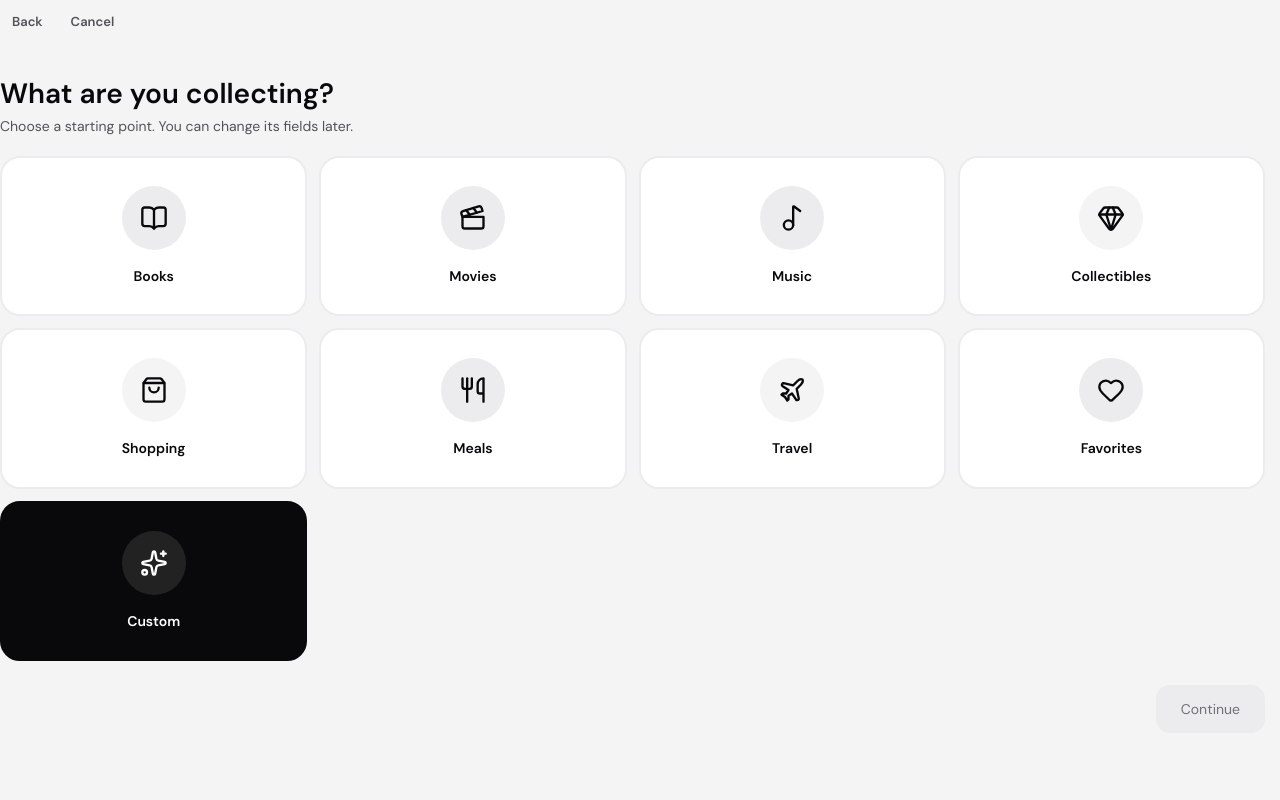
Test: Collection wizard › confirms cancel only after the wizard becomes dirty
Click the button with aria-label "Books preset". click: (154, 236)
box: [0,156,307,316]
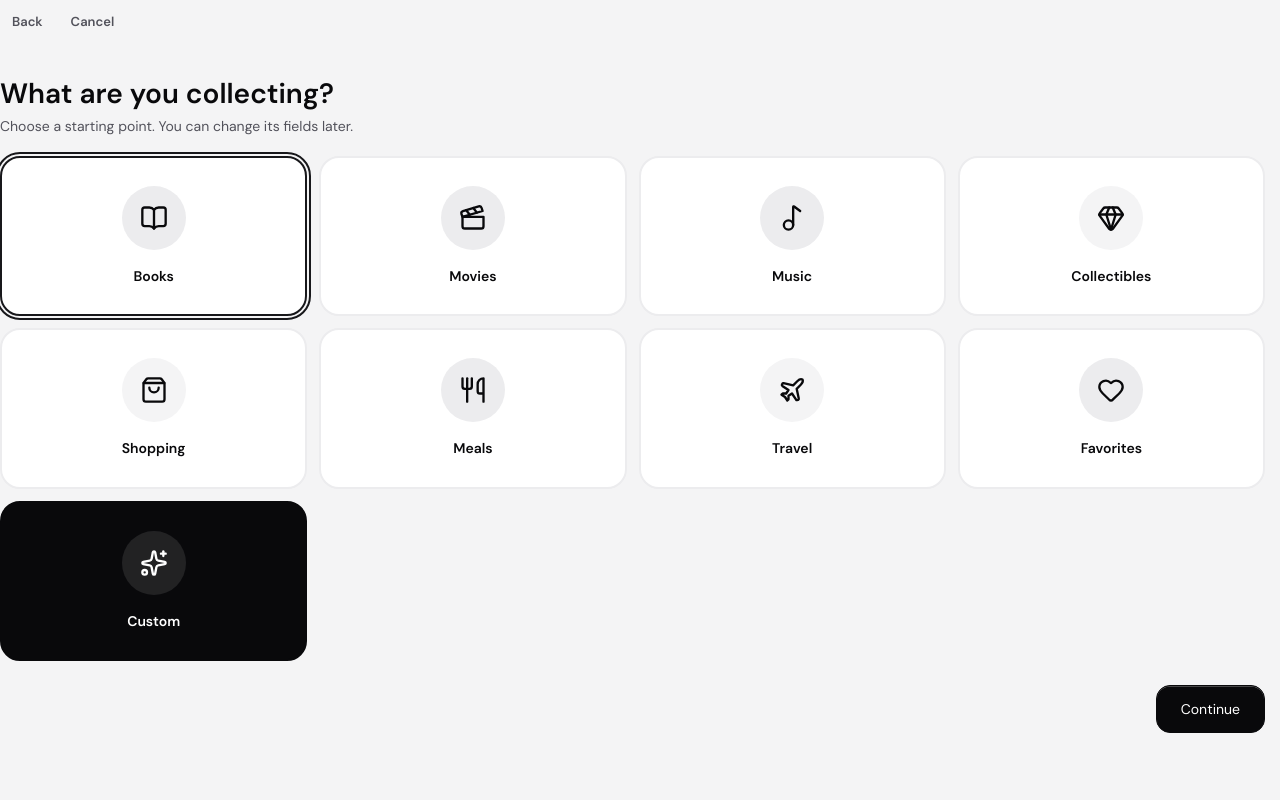
Click the button "Cancel". click: (92, 22)
box: [59,0,126,44]
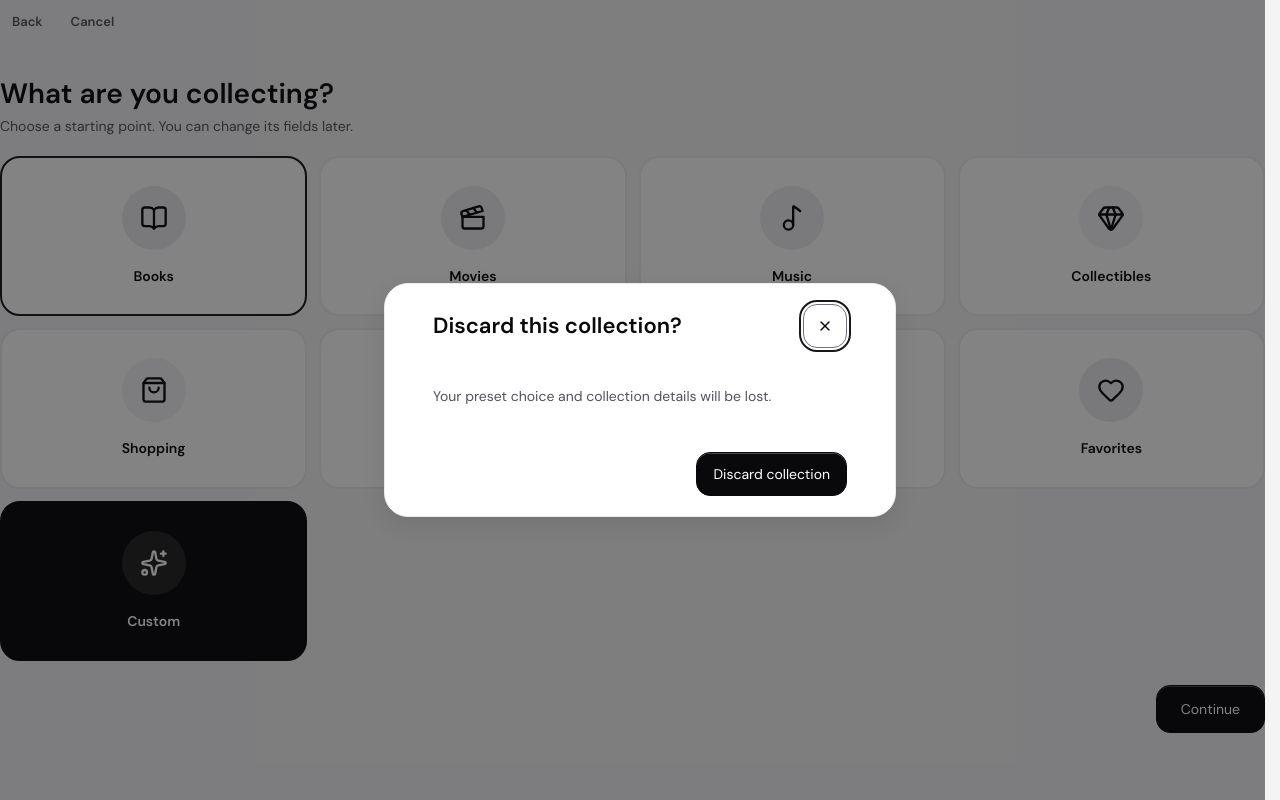
Expected: the dialog "Discard this collection?" is shown, [384,283,896,517]
